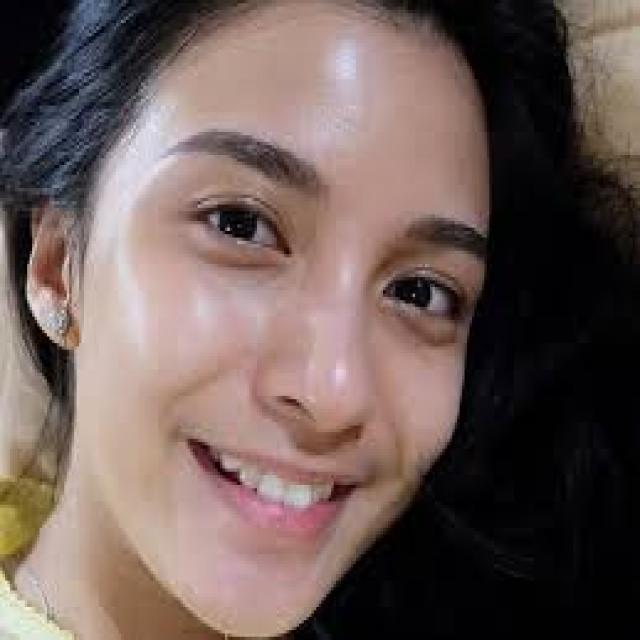oily: (302, 352, 376, 426), (120, 262, 190, 336), (314, 32, 376, 108), (322, 254, 381, 310)
